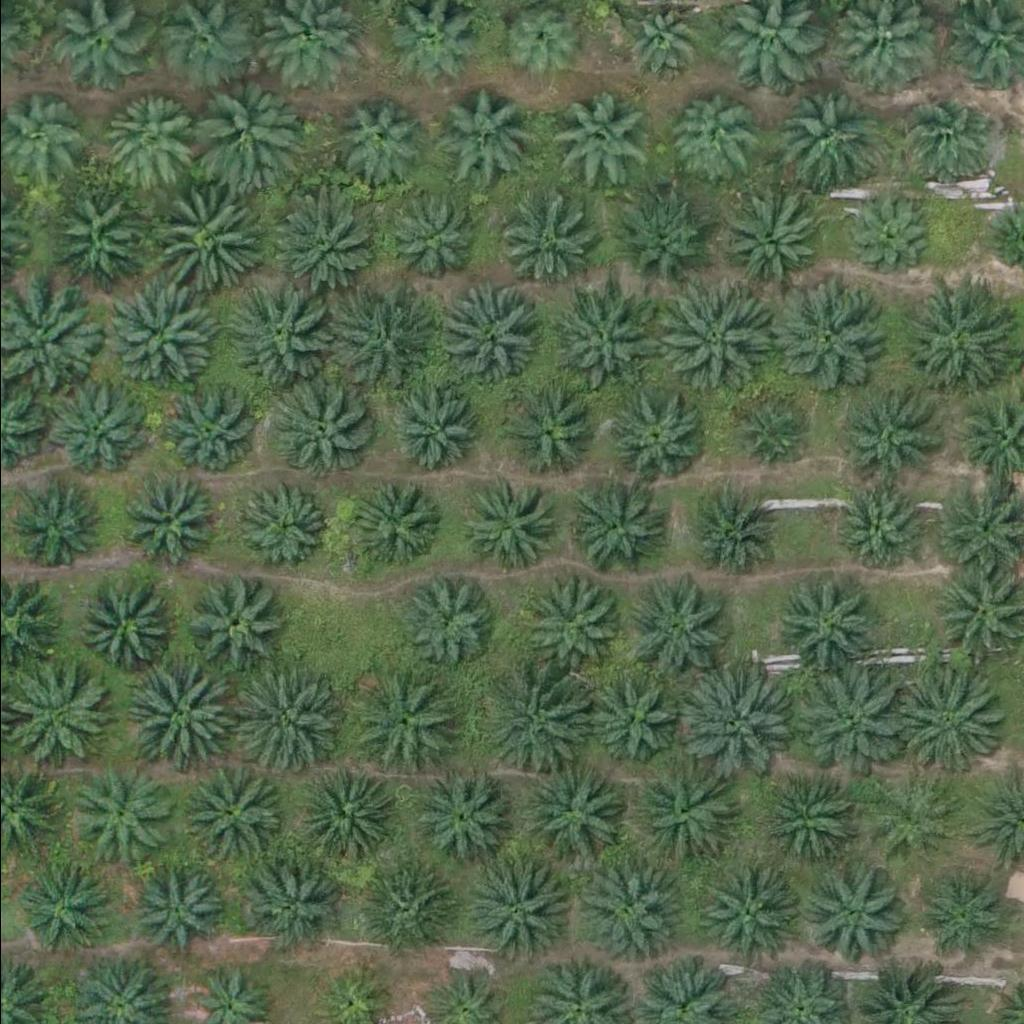Kelapa_Sawit: (269, 185, 383, 298), (650, 277, 764, 390), (221, 279, 335, 392), (892, 666, 1006, 779), (475, 663, 589, 776), (339, 667, 453, 780), (768, 277, 881, 390), (328, 282, 441, 395), (673, 662, 786, 775), (228, 660, 341, 773), (627, 760, 740, 873), (121, 663, 234, 776), (102, 275, 215, 388), (143, 179, 256, 291), (901, 280, 1014, 392), (786, 668, 899, 780), (517, 760, 630, 872), (574, 858, 687, 970), (459, 854, 572, 966), (201, 75, 302, 175), (722, 188, 823, 288), (543, 286, 644, 386), (434, 288, 535, 388), (499, 386, 600, 486), (454, 475, 555, 575), (183, 575, 284, 675), (390, 570, 491, 670), (515, 573, 616, 673), (623, 581, 724, 681), (773, 575, 874, 675), (576, 666, 677, 766), (295, 771, 396, 871), (412, 771, 513, 871), (757, 769, 858, 869), (692, 860, 793, 960), (348, 855, 449, 955), (239, 860, 340, 960), (74, 763, 175, 863), (40, 193, 141, 293), (773, 86, 873, 186), (556, 89, 656, 189), (440, 87, 540, 187), (384, 185, 484, 285), (497, 192, 597, 292), (605, 191, 705, 291), (273, 386, 373, 486), (605, 385, 705, 485), (678, 486, 778, 586), (562, 479, 662, 579), (341, 479, 441, 579), (152, 378, 252, 478), (182, 767, 282, 867), (800, 871, 900, 971), (74, 577, 174, 677), (9, 480, 109, 580), (118, 472, 218, 572), (45, 381, 145, 481), (841, 193, 930, 281), (668, 87, 756, 175), (243, 482, 331, 570), (915, 873, 1003, 961), (19, 863, 107, 951), (128, 862, 216, 950), (101, 93, 189, 181), (834, 490, 923, 577), (863, 777, 952, 864), (895, 94, 983, 181), (335, 95, 423, 182), (387, 382, 475, 469), (836, 393, 924, 480), (726, 394, 802, 469)
